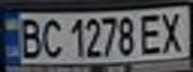1: (63, 15, 84, 57)
2: (81, 15, 103, 57)
7: (100, 14, 121, 56)
8: (115, 12, 139, 56)
B: (15, 15, 45, 58)
C: (36, 16, 66, 58)
E: (136, 11, 166, 56)
X: (157, 8, 190, 54)
